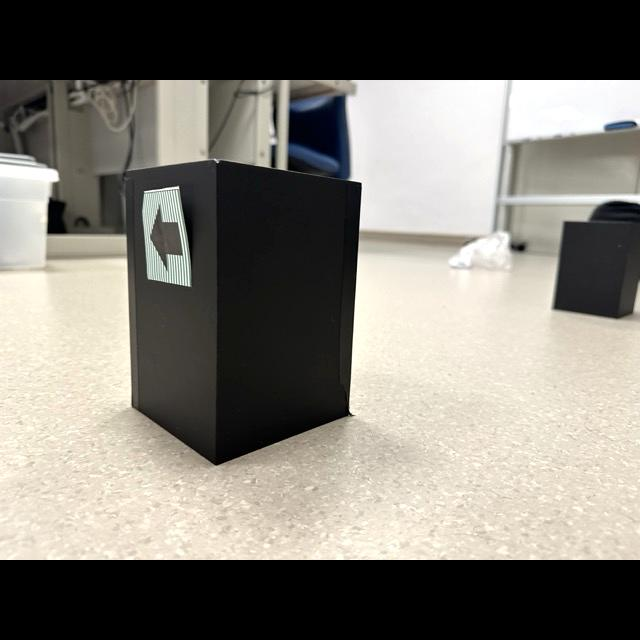LEFT: (151, 206, 183, 270)
